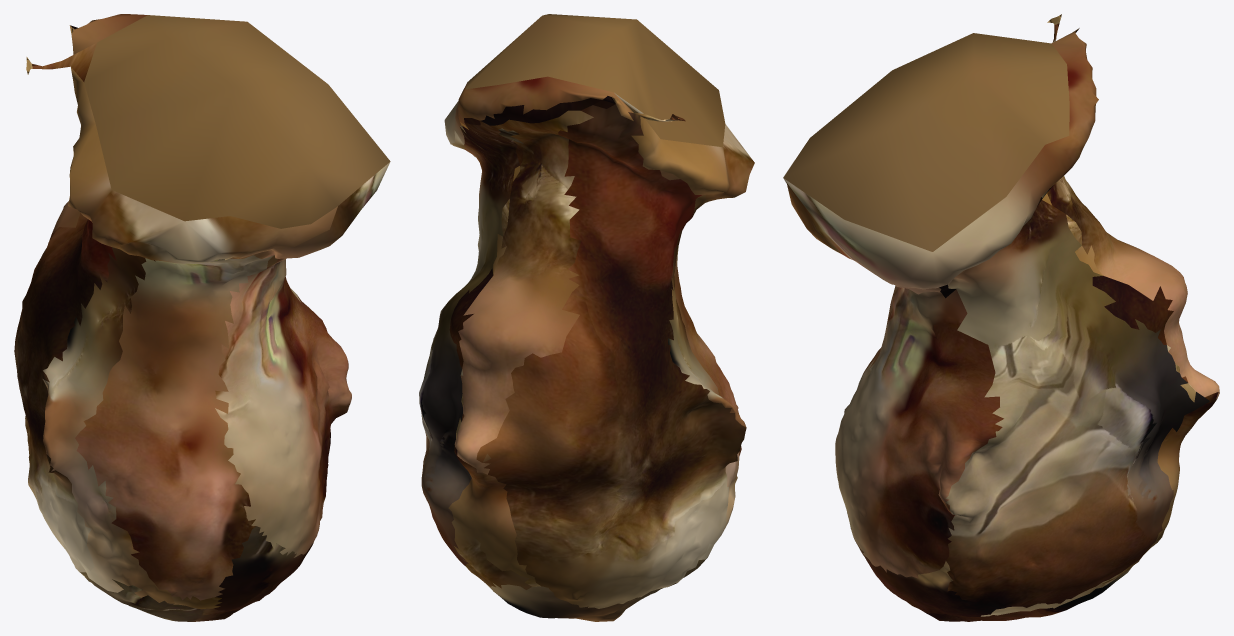
The model's file is mig-selv.obj.
3 views of the same model, side by side, from view 1: azimuth 30°, elevation 25°; view 2: azimuth 150°, elevation 25°; view 3: azimuth 270°, elevation 25° (orthographic).
Visible parts, largest first — view 1: mesh; view 2: mesh; view 3: mesh.
Boxes of the visible parts, x1,y1,x2,y2 form: mesh: (14, 14, 390, 621); mesh: (419, 14, 754, 621); mesh: (783, 14, 1219, 621).
Size of the model in its own units: 0.313 by 0.5576 by 0.3908.
